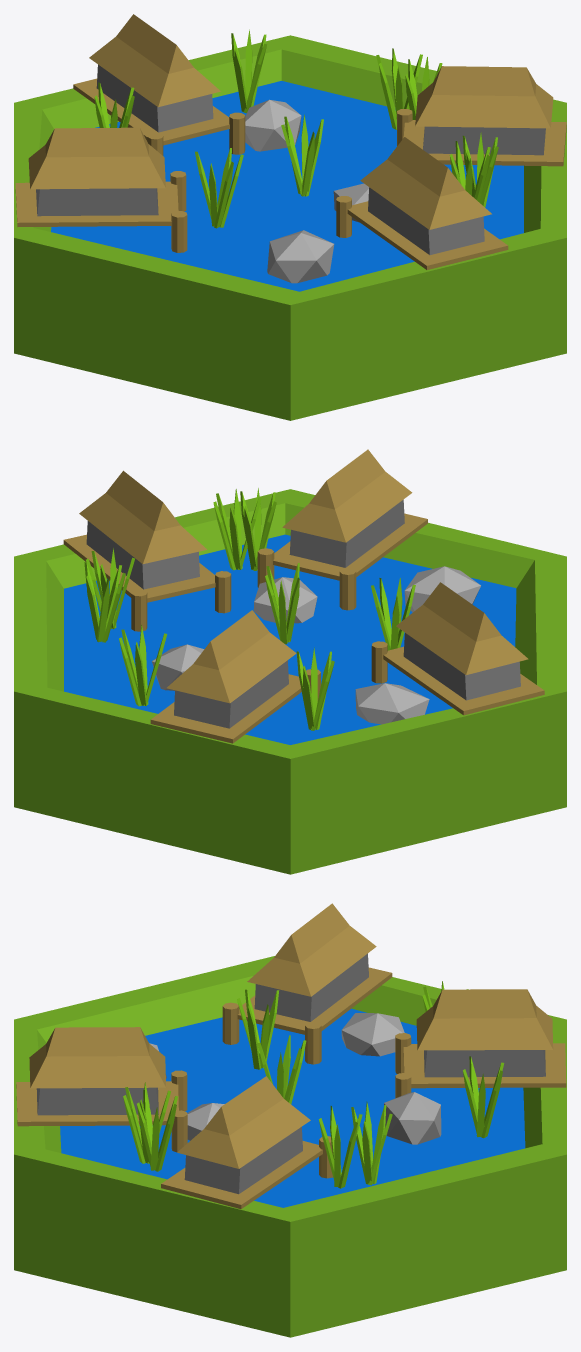
The model's file is Casas_Lago_Cerrado_4.fbx.
The picture shows the model from 3 angles, top to bottom: view 1: azimuth 30°, elevation 25°; view 2: azimuth 150°, elevation 25°; view 3: azimuth 270°, elevation 25°; orthographic projection.
Parts seen in each view (by area): view 1: Casas_Lago_Cerrado_4; view 2: Casas_Lago_Cerrado_4; view 3: Casas_Lago_Cerrado_4.
Boxes of the visible parts, x1,y1,x2,y2 form: Casas_Lago_Cerrado_4: (14, 14, 566, 420); Casas_Lago_Cerrado_4: (14, 449, 566, 874); Casas_Lago_Cerrado_4: (14, 903, 566, 1337).
Bounding box in the file's own units: 200 × 67.29 × 173.
